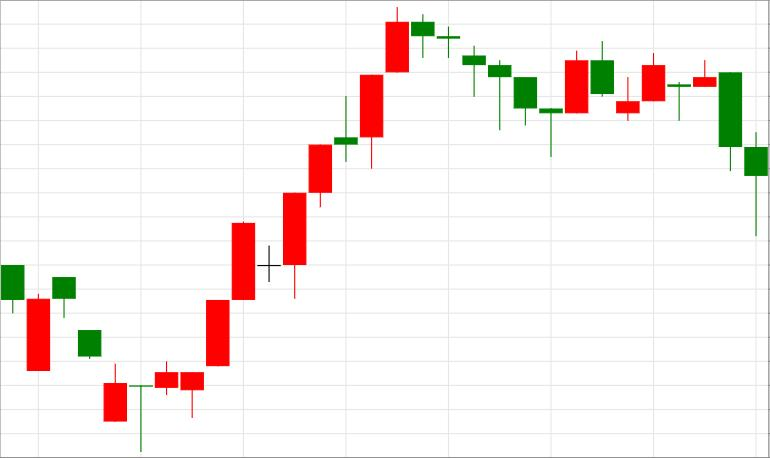morning_star_rise: (412, 13, 587, 156)
